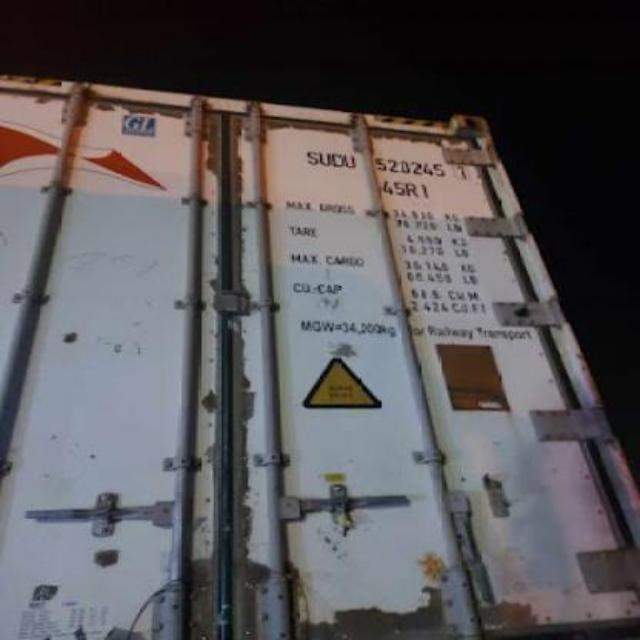0: (400, 153, 410, 171)
1: (456, 161, 474, 179)
2: (384, 150, 400, 173), (410, 153, 422, 177)
4: (422, 156, 432, 180)
5: (370, 150, 388, 174), (432, 154, 448, 176)
D: (332, 143, 344, 173)
S: (304, 142, 318, 168)
U: (344, 144, 360, 170), (318, 146, 332, 170)
